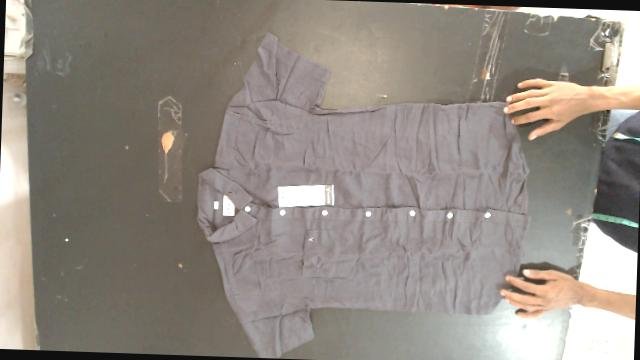new-garment: (197, 34, 528, 358)
